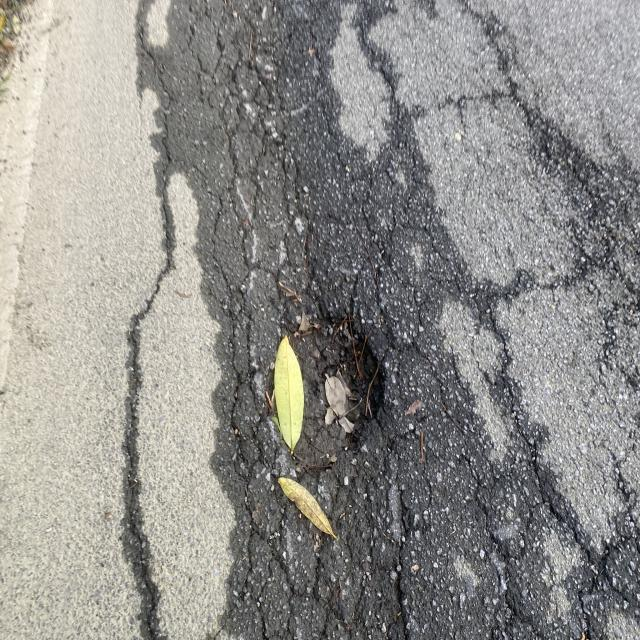pothole: (197, 76, 376, 508)
